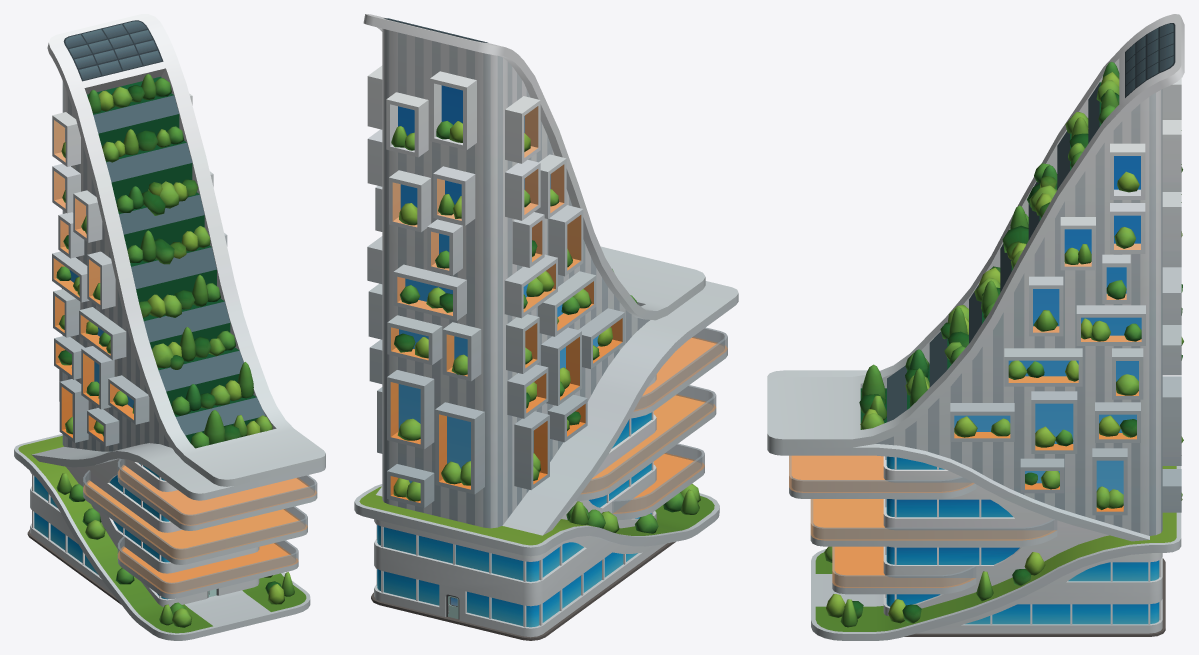
Rendered from loft-saint-germain.glb.
3 views of the same model, side by side, from view 1: azimuth 30°, elevation 25°; view 2: azimuth 150°, elevation 25°; view 3: azimuth 270°, elevation 25° (orthographic). The views are drawn at different scales.
Parts seen in each view (by area): view 1: Eco_Building_Slope; view 2: Eco_Building_Slope; view 3: Eco_Building_Slope.
Boxes of the visible parts, <box> form: Eco_Building_Slope: <box>14,14,325,640</box>; Eco_Building_Slope: <box>354,14,738,640</box>; Eco_Building_Slope: <box>767,14,1184,640</box>.
Bounding box in the file's own units: 19.24 × 57.39 × 38.5.
3 materials, 3 textured.
